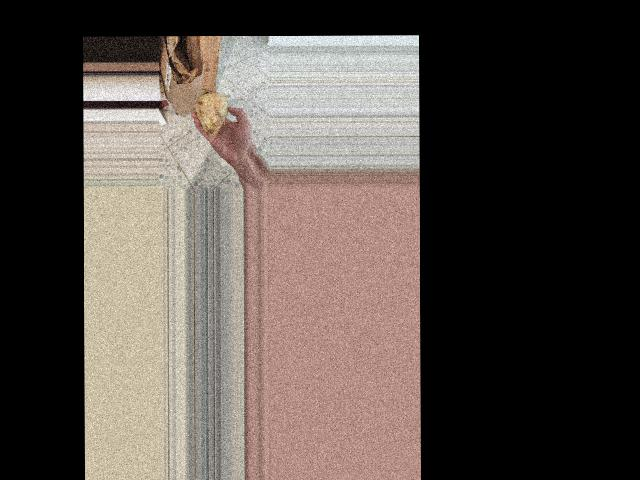onion: (194, 88, 228, 138)
